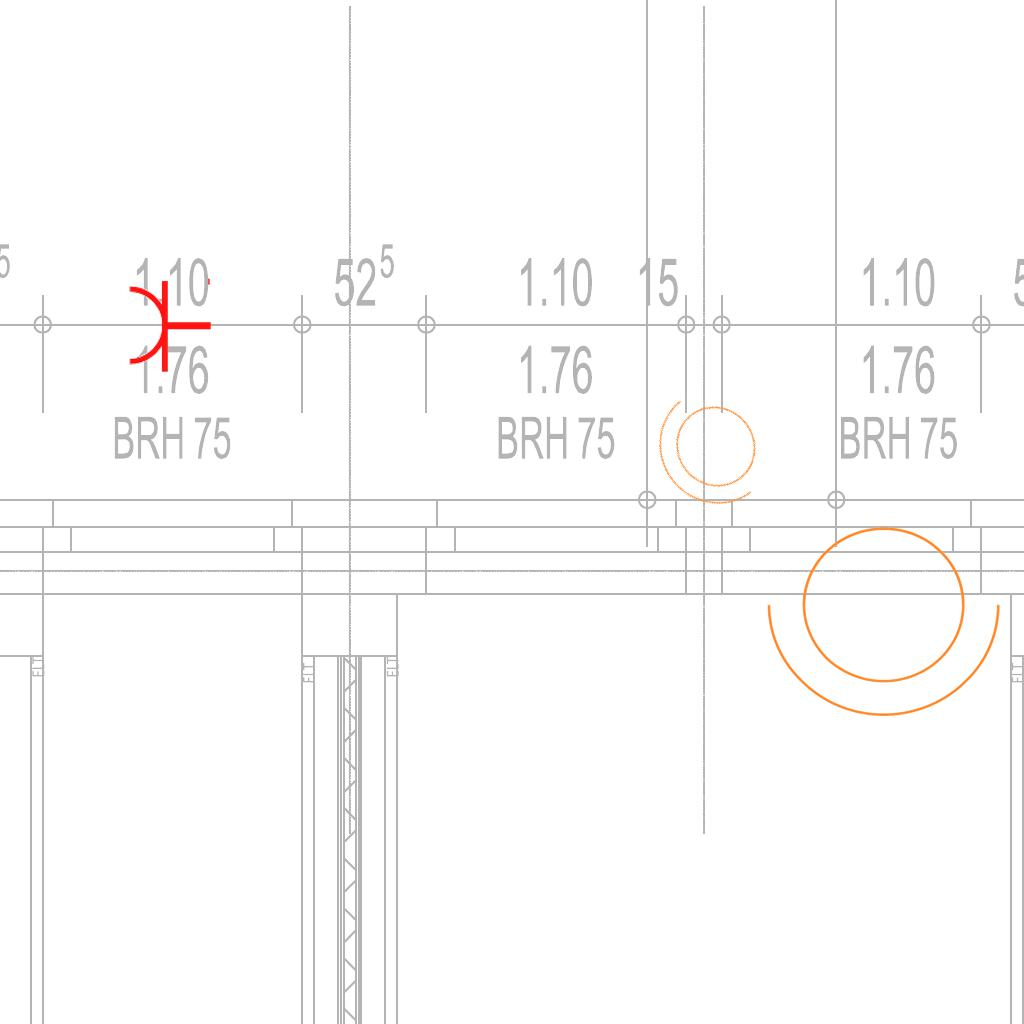Scheinwerfer_fuer_Alarmbeleuchtung: (758, 502, 1022, 727), (629, 365, 799, 539)
Schukosteckdose_einfach: (126, 274, 213, 374)
